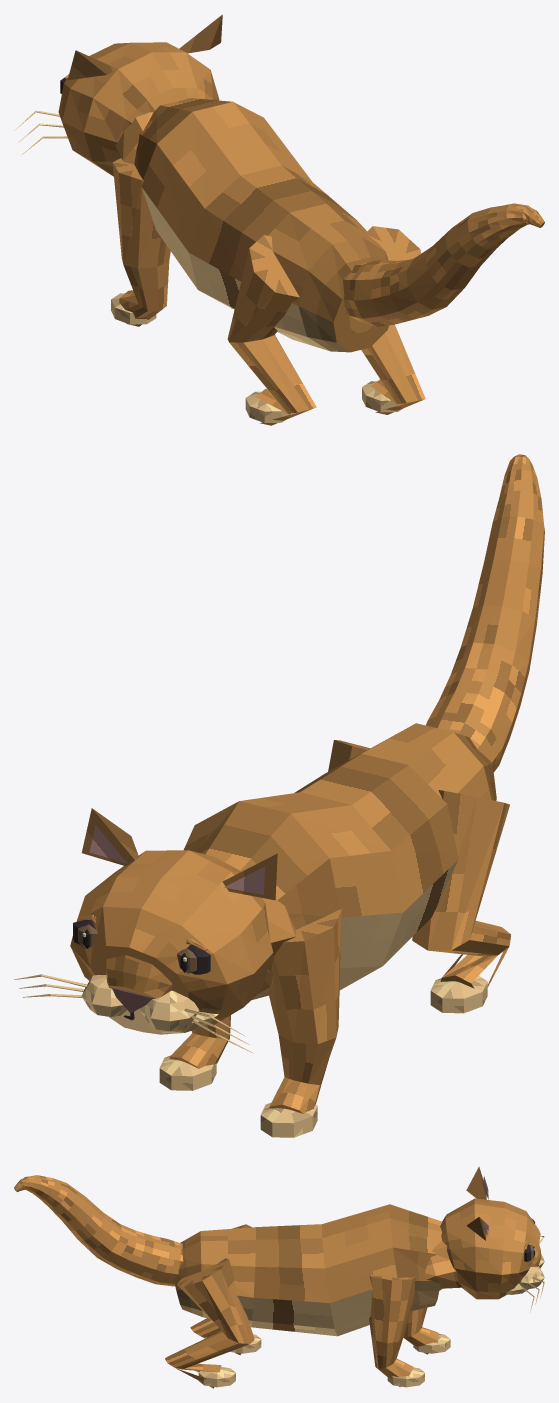
File: mon_cat_chonker_kitten.glb
3 renders of one model, top to bottom at view 1: azimuth 30°, elevation 25°; view 2: azimuth 150°, elevation 25°; view 3: azimuth 270°, elevation 25°, orthographic. The views are drawn at different scales.
Visible parts, largest first — view 1: closed_body; view 2: closed_body; view 3: closed_body.
Part boxes in pixels (x1,y1,x2,y2): closed_body: (14,14,544,425); closed_body: (14,454,544,1137); closed_body: (14,1166,544,1388).
Bounding box in the file's own units: 0.0985 × 0.1563 × 0.3524.
1 material, 1 textured.
